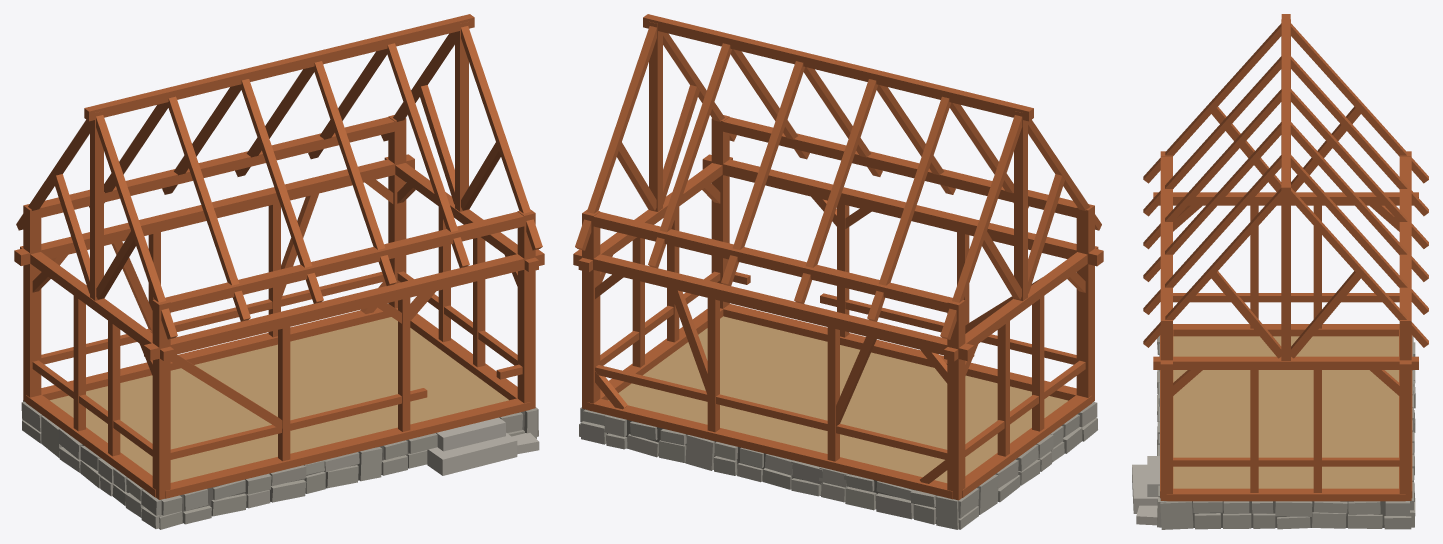
The model's file is frame.glb.
3 views of the same model, side by side, from view 1: azimuth 30°, elevation 25°; view 2: azimuth 150°, elevation 25°; view 3: azimuth 270°, elevation 25° (orthographic). The views are drawn at different scales.
Parts seen in each view (by area): view 1: timber_frame, floor, rafters, foundation_stones, door_step; view 2: timber_frame, floor, rafters, foundation_stones; view 3: timber_frame, floor, rafters, foundation_stones, door_step, foundation_core.
Part boxes in pixels (left/top/right/bottom): timber_frame: left=14, top=21, right=544, bottom=499; floor: left=50, top=317, right=508, bottom=482; rafters: left=16, top=14, right=542, bottom=339; foundation_stones: left=21, top=400, right=538, bottom=529; door_step: left=427, top=417, right=539, bottom=475; timber_frame: left=573, top=21, right=1103, bottom=500; floor: left=608, top=316, right=1067, bottom=482; rafters: left=575, top=14, right=1101, bottom=339; foundation_stones: left=579, top=401, right=1097, bottom=529; timber_frame: left=1153, top=19, right=1418, bottom=501; floor: left=1173, top=336, right=1398, bottom=488; rafters: left=1143, top=14, right=1428, bottom=347; foundation_stones: left=1157, top=335, right=1415, bottom=529; door_step: left=1132, top=456, right=1159, bottom=525; foundation_core: left=1164, top=501, right=1385, bottom=527.
Size of the model in its own units: 7.56 by 6.81 by 5.34.
